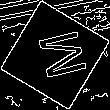M_W: (25, 27, 85, 83)
